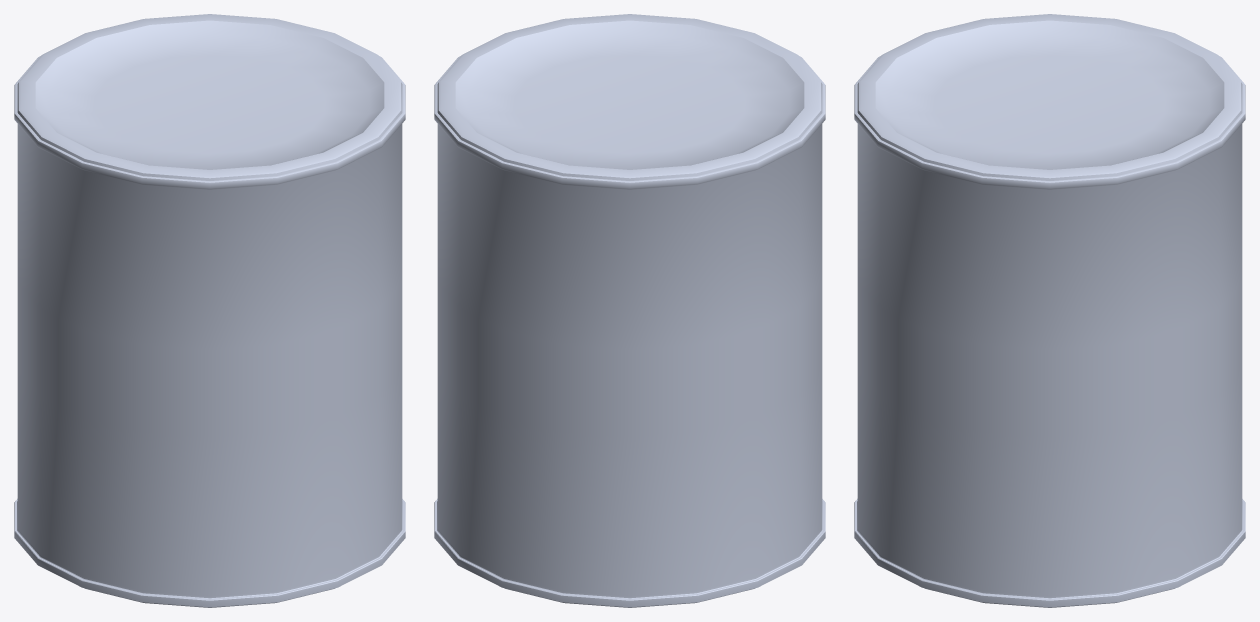
File: can.glb
3 views of the same model, side by side, from view 1: azimuth 30°, elevation 25°; view 2: azimuth 150°, elevation 25°; view 3: azimuth 270°, elevation 25° (orthographic).
Visible parts, largest first — view 1: can; view 2: can; view 3: can.
Boxes of the visible parts, box(x1,y1,x2,y2) form: can: box(14, 14, 405, 607); can: box(434, 14, 825, 607); can: box(854, 14, 1245, 607).
Size of the model in its own units: 0.7675 by 0.919 by 0.7559.
